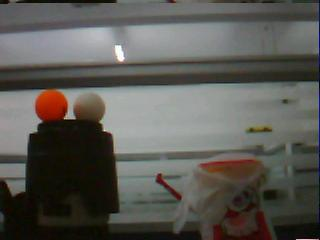oball: (35, 90, 67, 120)
